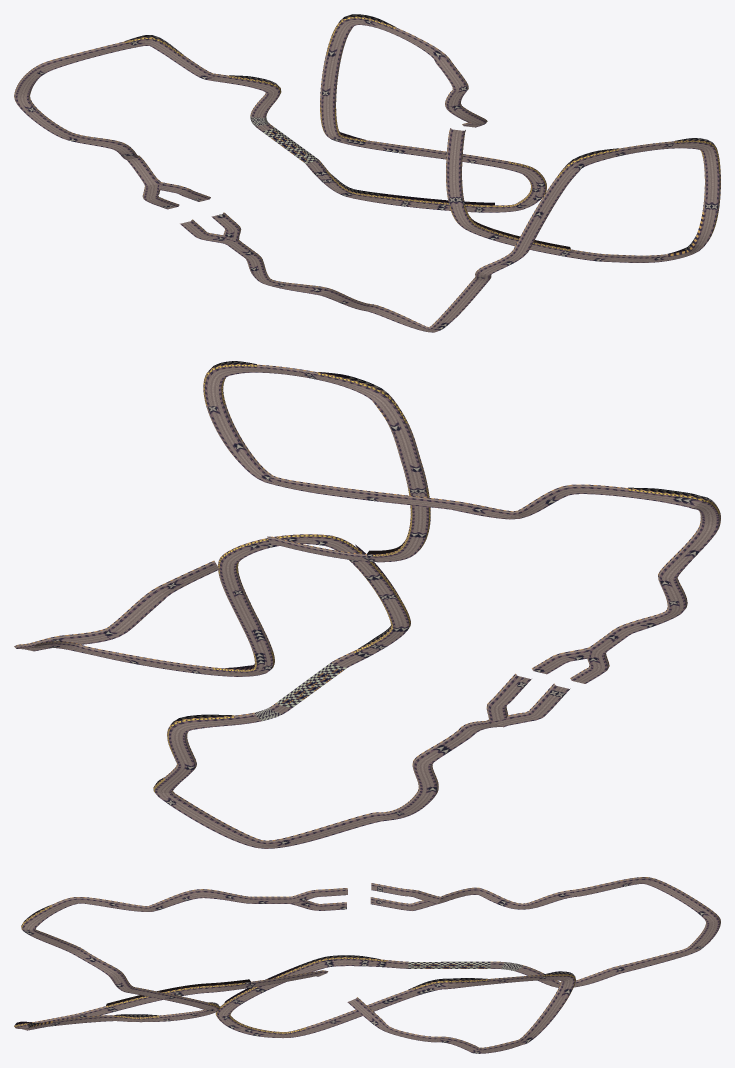
Rendered from Track_07_mesh.glb.
The picture shows the model from 3 angles, top to bottom: view 1: azimuth 30°, elevation 25°; view 2: azimuth 150°, elevation 25°; view 3: azimuth 270°, elevation 25°; orthographic projection. The views are drawn at different scales.
Visible parts, largest first — view 1: Mesh_0; view 2: Mesh_0; view 3: Mesh_0.
Part boxes in pixels (x1,y1,x2,y2): Mesh_0: (14, 14, 720, 332); Mesh_0: (14, 361, 720, 848); Mesh_0: (14, 877, 720, 1053).
Size of the model in its own units: 1288 by 201 by 1977.
Materials: 18 (18 with a texture image).
